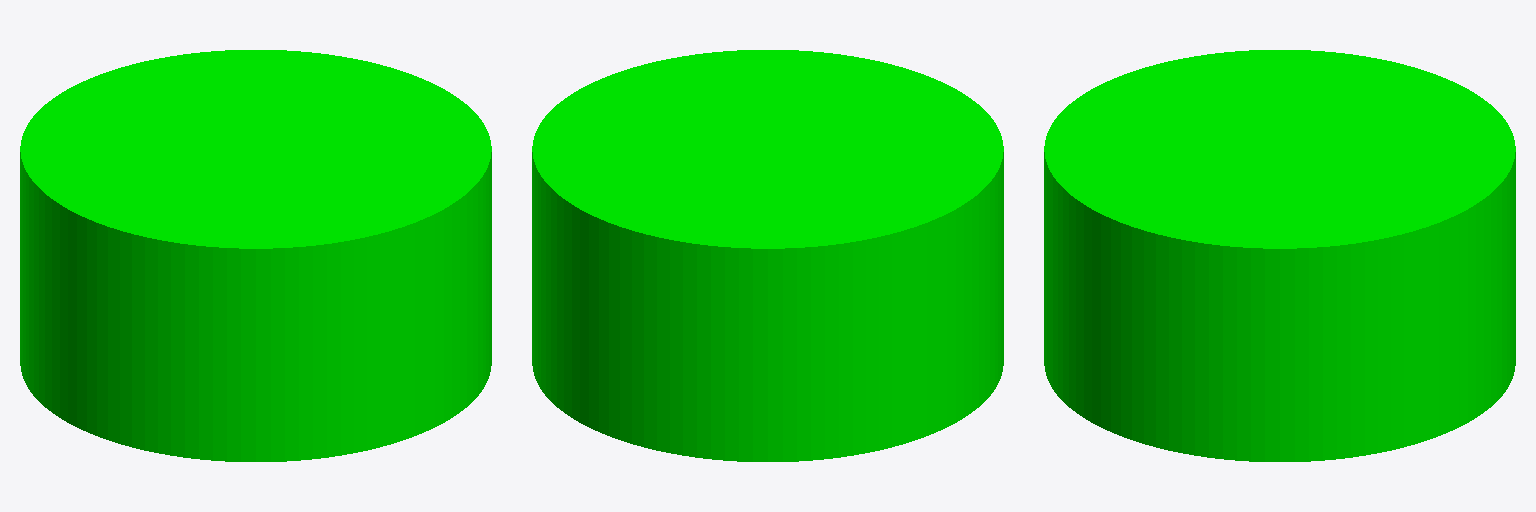
The robot description file, URDF, robot "Cylinder_v6_120_60":
<robot name="Cylinder_v6_120_60">
	<link name="object">
		<visual>
			<origin xyz="-4.5777275781483534e-18 2.7466365468890122e-17 -0.6000000000000002" rpy="0.0 0.0 0.0" />
			<geometry>
				<mesh filename="Cylinder_v6_120_60/Cylinder_v6_120_60.obj" scale="0.02 0.02 0.02" />
			</geometry>
			<material name="texture">
				<color rgba="0.0 1.0 0.0 1.0" />
			</material>
		</visual>
		<collision>
			<origin xyz="-4.5777275781483534e-18 2.7466365468890122e-17 -0.6000000000000002" rpy="0.0 0.0 0.0" />
			<geometry>
				<mesh filename="Cylinder_v6_120_60/Cylinder_v6_120_60_vhacd.obj" scale="0.02 0.02 0.02" />
			</geometry>
		</collision>
		<inertial>
			<mass value="0.020" />
			<inertia ixx="1.0" ixy="0.0" ixz="0.0" iyy="1.0" iyz="0.0" izz="1.0" />
		</inertial>
	</link>
</robot>

--- Facts derived from the render (not from the file) ---
The picture shows the robot from 3 angles, left to right: view 1: azimuth 30°, elevation 25°; view 2: azimuth 150°, elevation 25°; view 3: azimuth 270°, elevation 25°; orthographic projection.
Model Cylinder_v6_120_60 with 1 links and 0 joints (none), rooted at object, posed all joints at 0.
Links seen in each view (by area): view 1: object; view 2: object; view 3: object.
Link boxes in pixels (x1,y1,x2,y2): object: (20, 50, 491, 461); object: (532, 50, 1003, 461); object: (1044, 50, 1515, 461).
Bounding box of the posed robot: 2.4 × 2.4 × 1.2 m (x, y, z).
1 mesh visuals loaded from 1 distinct referenced files (1 OBJ).